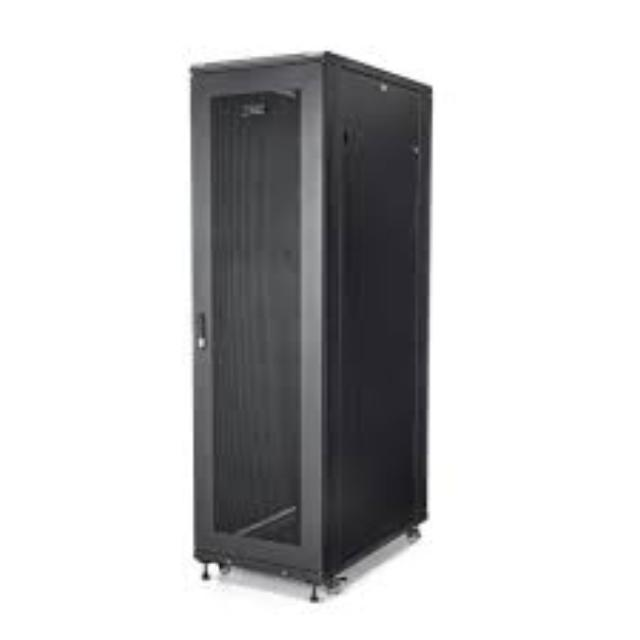Server: (172, 34, 366, 618)
